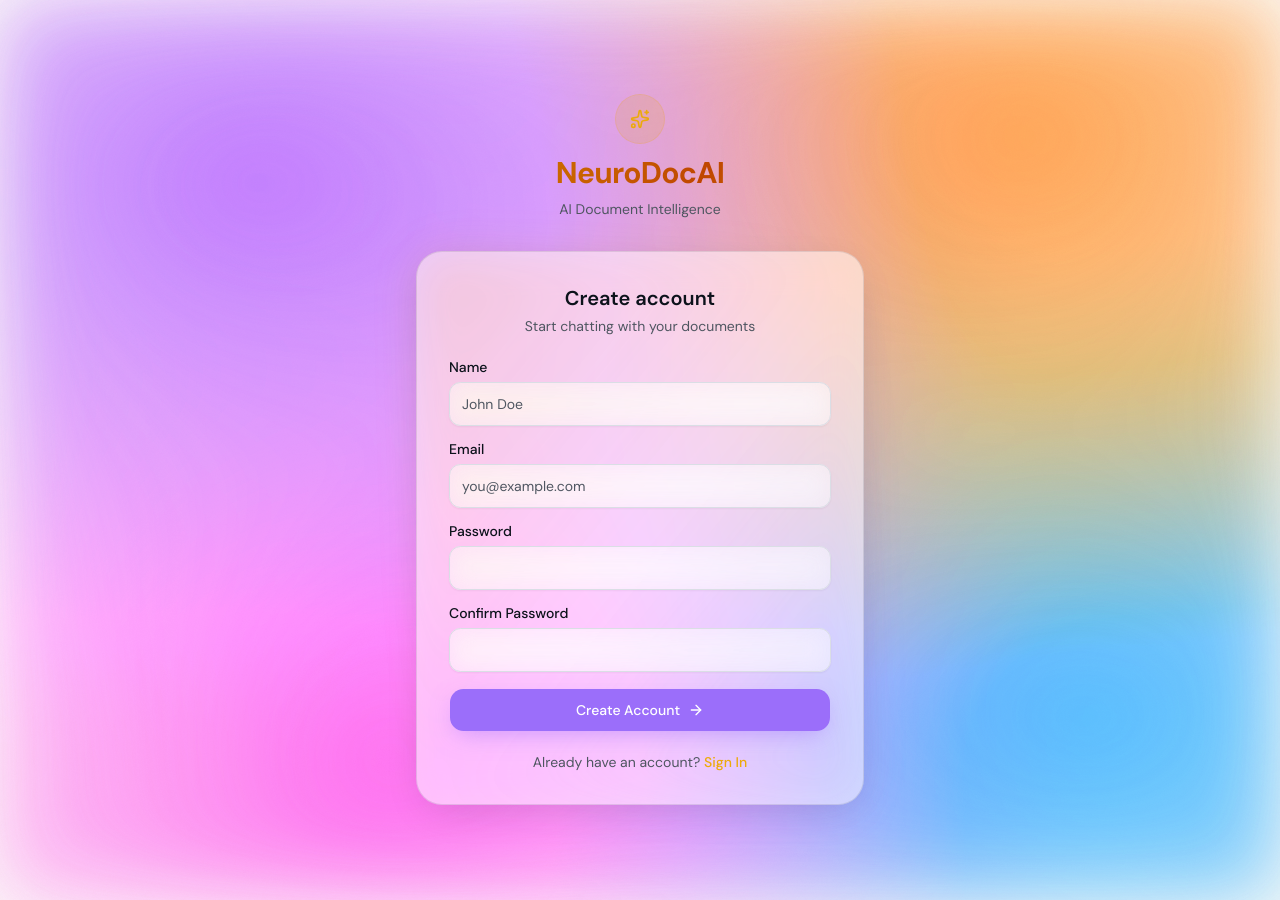
Scenario: RegisterPage › shows mismatch error when passwords differ
In the password field labelled "Password": (640, 568) [449,546,831,590], type "password123"
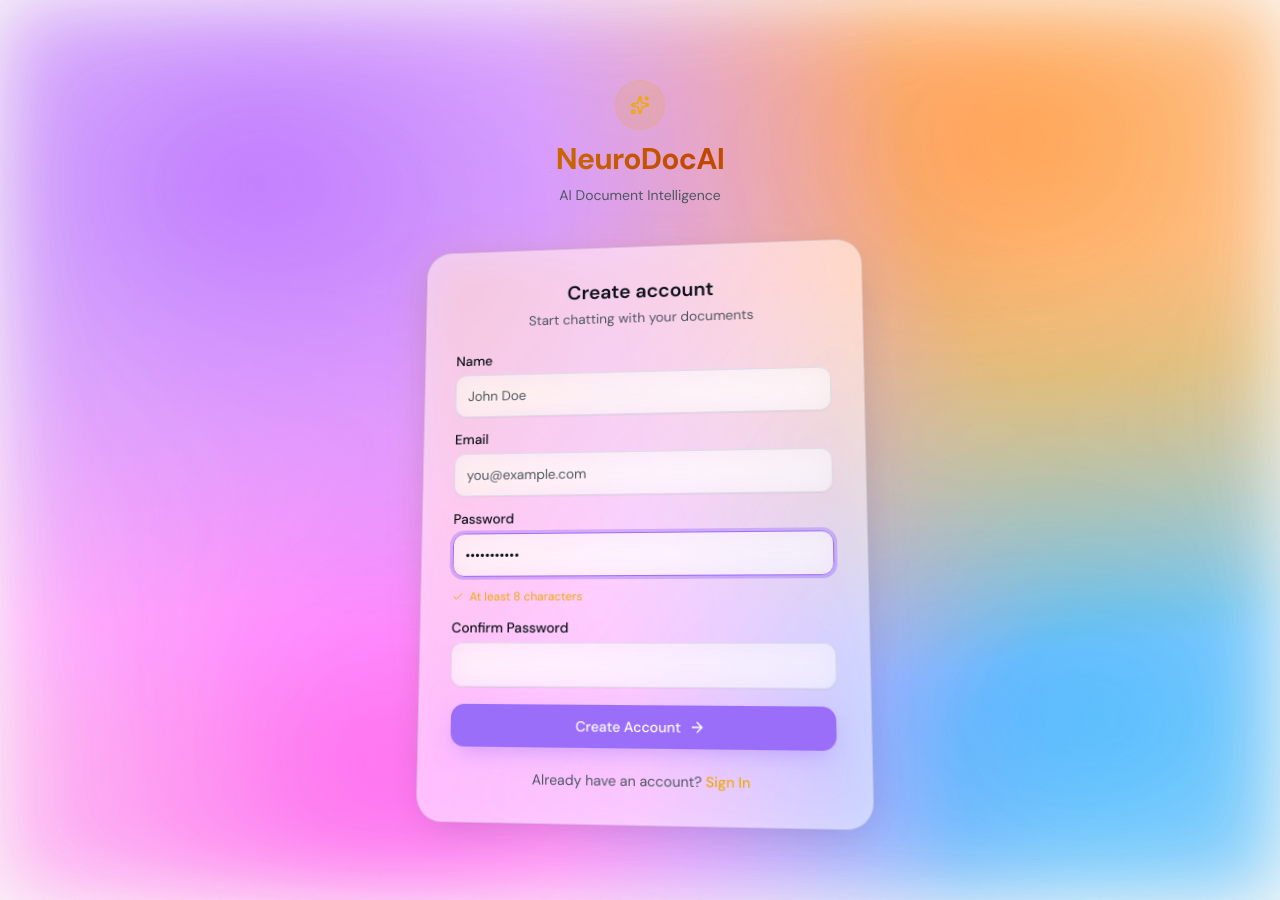
In the password field labelled "Confirm Password": (644, 666) [450,642,837,689], type "different"
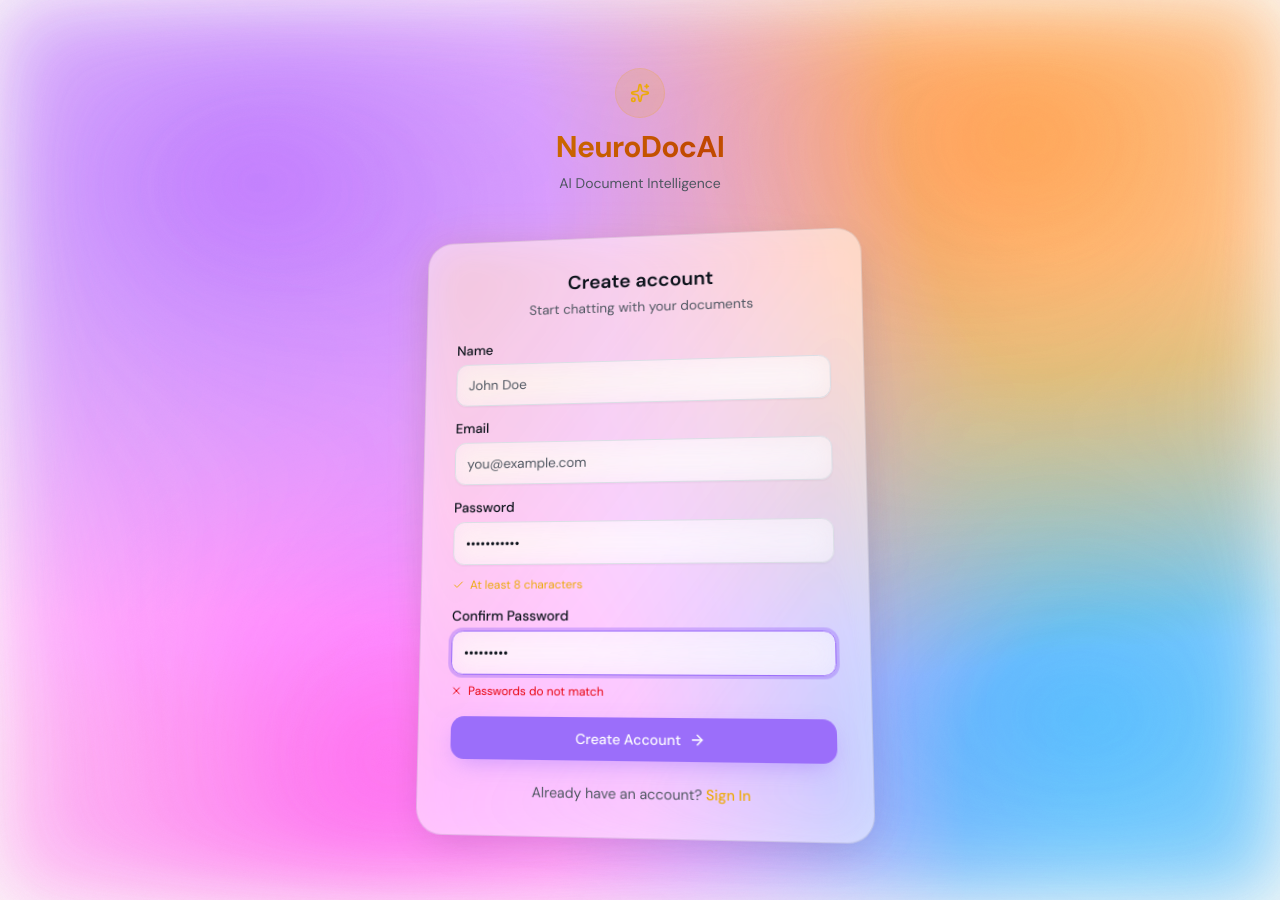
Expected: the text "Passwords do not match" is shown, [450,683,604,700]
